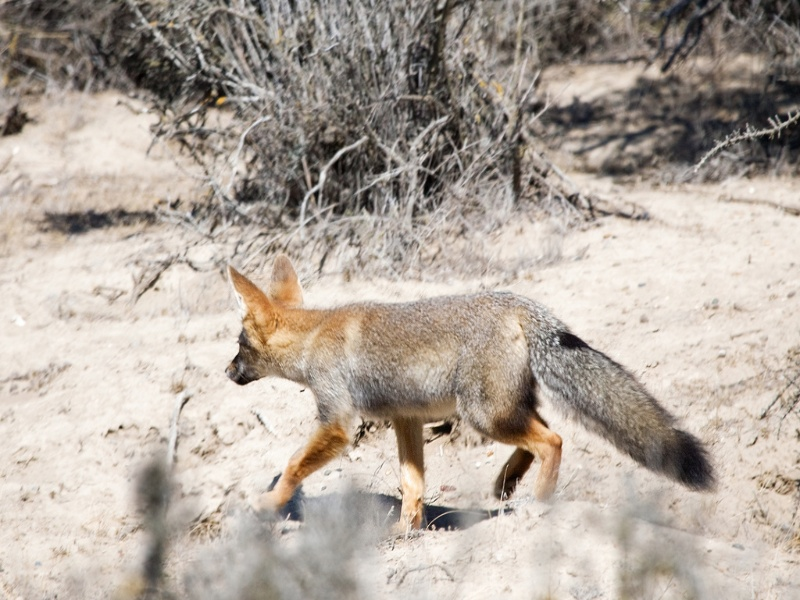fox: (224, 255, 722, 540)
